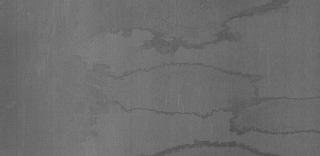water spot: (56, 56, 146, 141), (147, 29, 197, 57), (236, 68, 268, 94), (232, 122, 260, 140), (208, 29, 234, 47), (114, 21, 134, 41), (232, 11, 262, 24), (199, 106, 221, 122), (284, 91, 308, 104), (188, 139, 212, 151)
